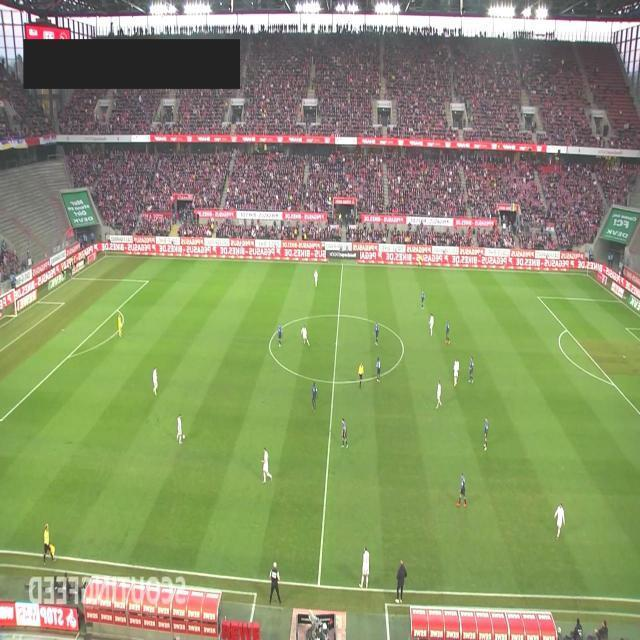Ball: (182, 434, 185, 440)
Corner: (585, 250, 591, 276), (104, 236, 108, 256)
GoalKeeper: (116, 311, 124, 338)
Referee: (42, 524, 56, 564), (358, 362, 364, 388), (418, 251, 422, 269)
TEAM 1: (358, 545, 370, 589), (554, 502, 566, 540), (261, 447, 273, 484), (176, 412, 184, 444), (452, 357, 460, 387), (300, 324, 310, 346), (436, 378, 442, 409), (152, 367, 158, 395), (429, 313, 434, 337), (314, 268, 318, 288)
TEAM 2: (456, 470, 467, 508), (342, 418, 349, 450), (483, 416, 489, 449), (311, 381, 317, 412), (468, 356, 474, 384), (375, 356, 381, 382), (373, 322, 379, 346), (277, 324, 283, 348), (446, 320, 450, 344), (421, 290, 425, 308)
